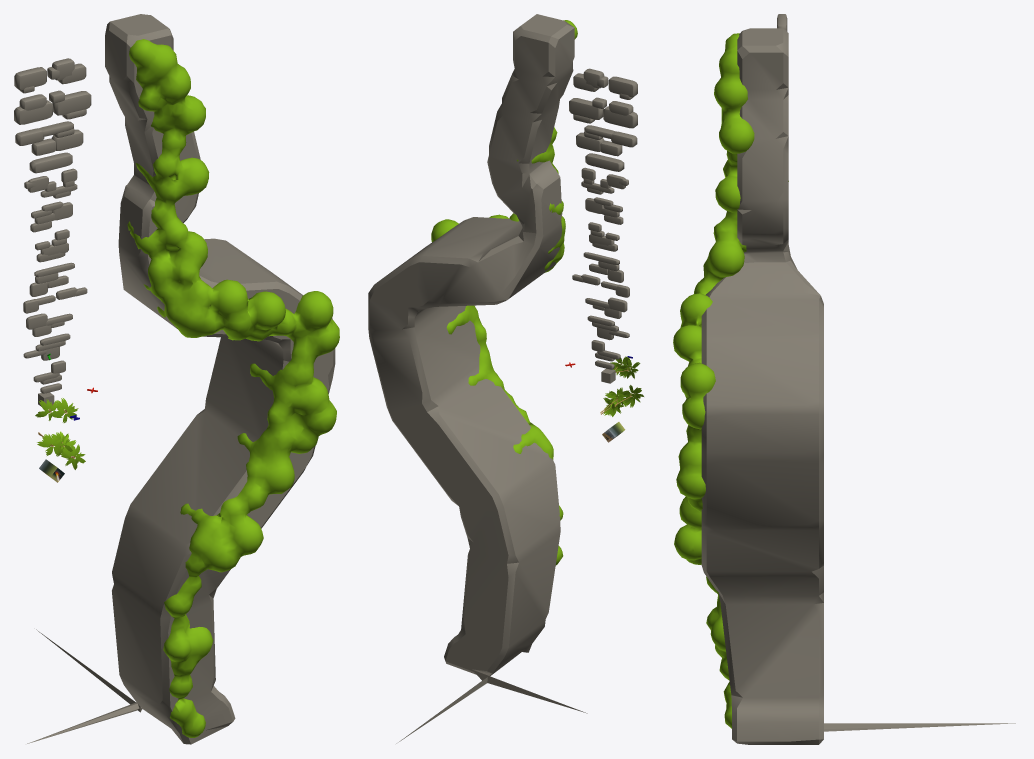
Rendered from beach.glb.
The picture shows the model from 3 angles, left to right: view 1: azimuth 30°, elevation 25°; view 2: azimuth 150°, elevation 25°; view 3: azimuth 270°, elevation 25°; orthographic projection. The views are drawn at different scales.
Visible parts, largest first — view 1: Rocks, cliff-foliage, rock-long-12, rock-long-11, rock-long-13, rock-long-9, rock-long-6, rock-long-8, rock-long-7, rock-long-4, rock-long-3, rock-long-5 (+2 smaller); view 2: Rocks, cliff-foliage, rock-long-12, rock-long-11, rock-long-13, rock-long-9, rock-long-6, rock-long-8, rock-long-7, rock-long-4, rock-long-3, rock-long-5 (+1 smaller); view 3: Rocks, cliff-foliage.
Boxes of the visible parts, <box> form: Rocks: <box>27,14,335,744</box>; cliff-foliage: <box>127,39,339,737</box>; rock-long-12: <box>14,90,91,124</box>; rock-long-11: <box>15,121,83,155</box>; rock-long-13: <box>14,58,86,93</box>; rock-long-9: <box>24,168,77,198</box>; rock-long-6: <box>29,262,74,296</box>; rock-long-8: <box>30,201,72,232</box>; rock-long-7: <box>35,229,69,262</box>; rock-long-4: <box>26,313,72,336</box>; rock-long-3: <box>23,333,70,360</box>; rock-long-5: <box>23,287,87,313</box>; Rocks: <box>368,14,587,743</box>; cliff-foliage: <box>431,20,577,565</box>; rock-long-12: <box>569,97,637,128</box>; rock-long-11: <box>576,125,637,156</box>; rock-long-13: <box>573,68,637,99</box>; rock-long-9: <box>581,167,628,194</box>; rock-long-6: <box>583,252,623,282</box>; rock-long-8: <box>585,197,623,224</box>; rock-long-7: <box>588,222,619,251</box>; rock-long-4: <box>585,297,627,318</box>; rock-long-3: <box>587,315,629,340</box>; rock-long-5: <box>572,274,629,297</box>; Rocks: <box>701,28,1015,744</box>; cliff-foliage: <box>673,33,788,728</box>.
Size of what is drawn, in the model's own units: 54.81 by 135 by 62.16.
Materials: 13 (13 with a texture image).
